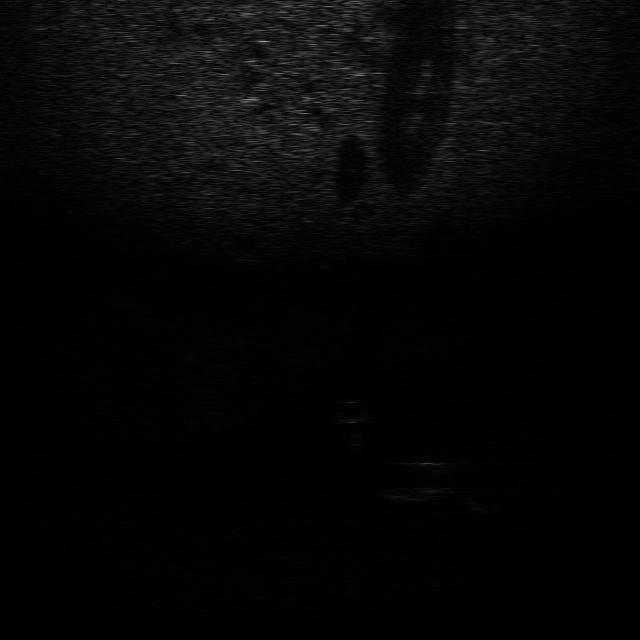ball: (325, 397, 376, 425)
tyre: (375, 459, 457, 503)
